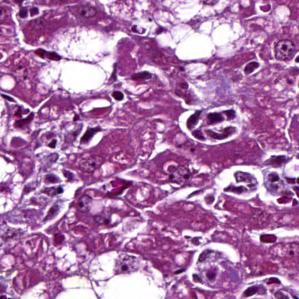ballooning: (34, 24, 120, 98), (149, 4, 247, 64), (87, 248, 169, 296)
